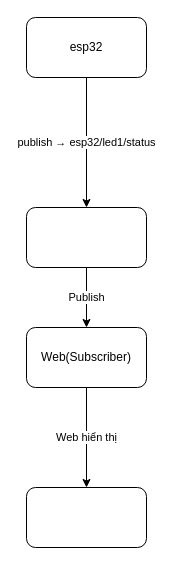
This 172x565 diagram has some shape labels left out. Each missing label, with the box of its shape:
Broler HiveMQ: (26, 206, 146, 268)
Led1 : On: (26, 486, 146, 548)
